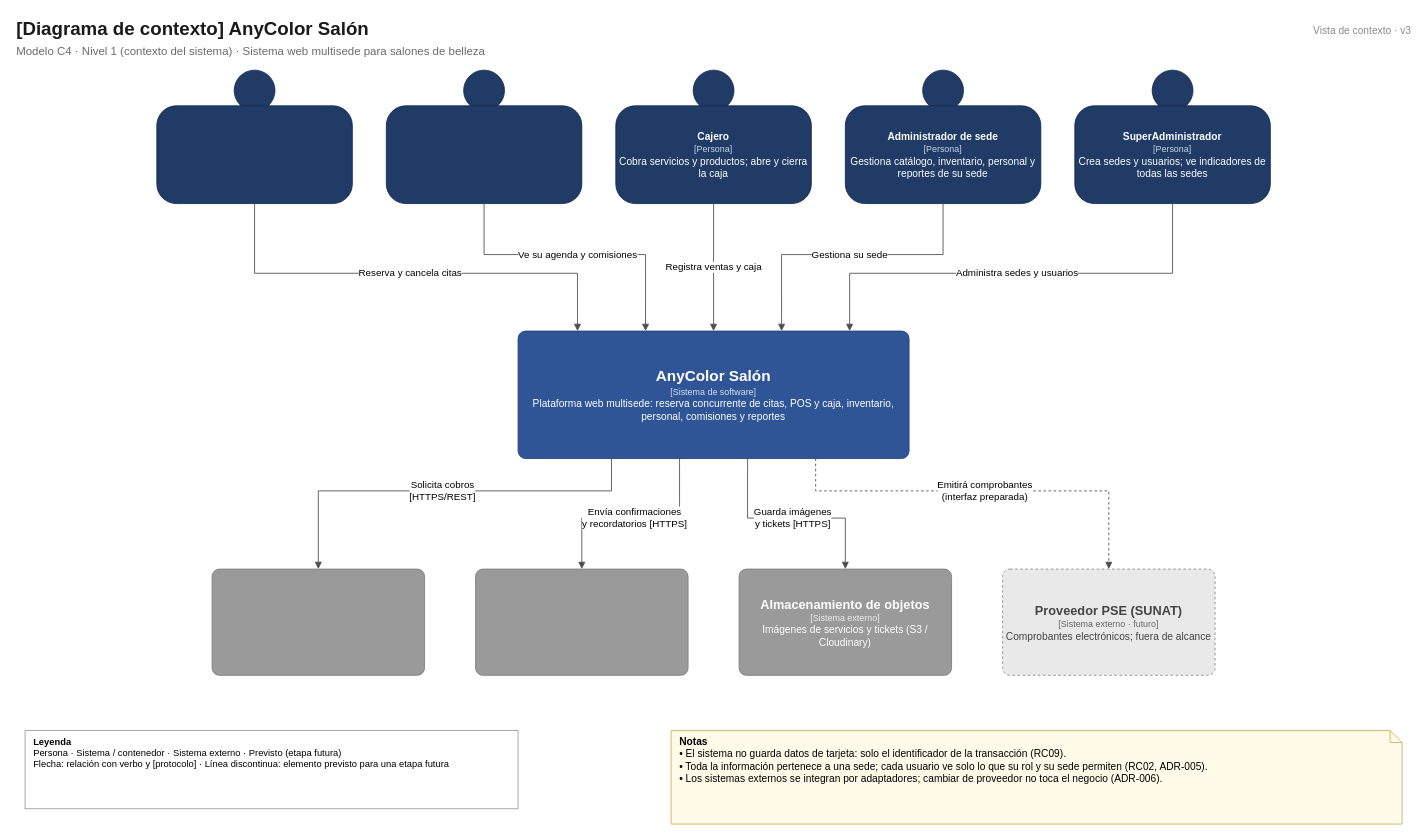
The diagram is 1426 pixels wide and 839 high, and some of its shapes have lost their labels. The shapes that lost their labels are listed below. From the top down, each one's centre as x and y in pixels, then its label:
the point at 254,154: Cliente [Persona] Reserva, cancela y consulta sus citas desde el celular
the point at 483,154: Estilista [Persona] Atiende citas y consulta su producción y comisiones
the point at 318,621: Pasarela de pagos [Sistema externo] Procesa cobros con tarjeta y Yape/Plin
the point at 581,621: Servicio de mensajería [Sistema externo] WhatsApp API y correo electrónico
